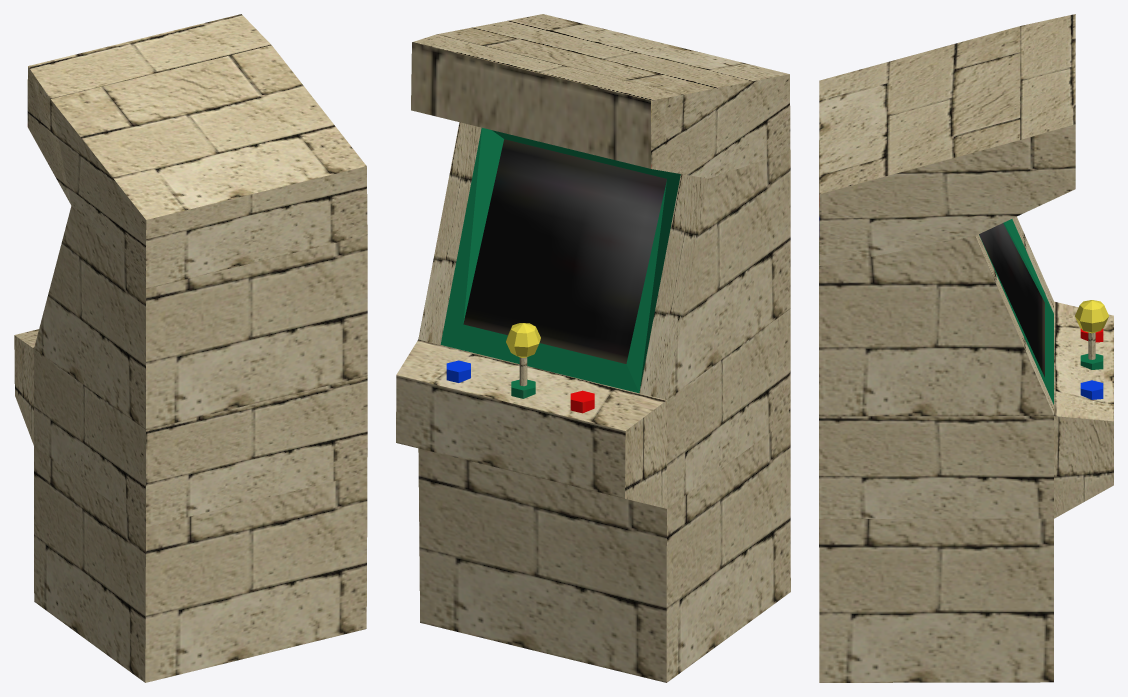
The model's file is static.ico.obj.
The picture shows the model from 3 angles, left to right: view 1: azimuth 30°, elevation 25°; view 2: azimuth 150°, elevation 25°; view 3: azimuth 270°, elevation 25°; orthographic projection. The views are drawn at different scales.
Bounding box in the file's own units: 1.95 × 4.42 × 2.12.
Materials: 1 (1 with a texture image).
